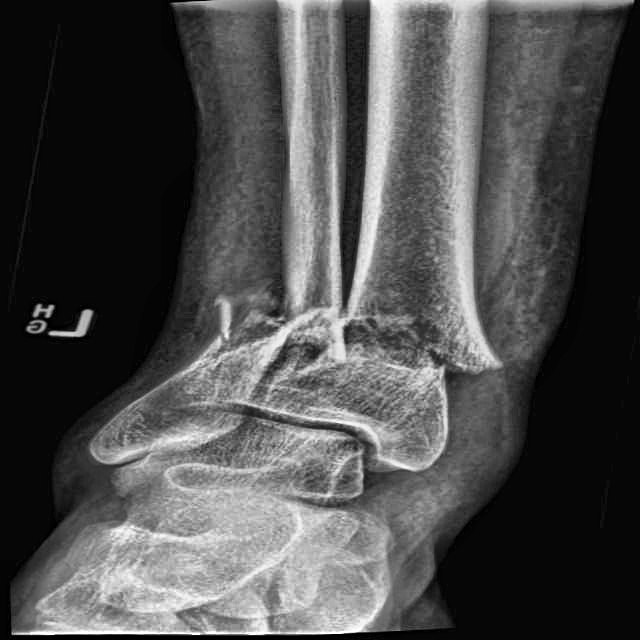Comminuted: (324, 293, 507, 396), (200, 281, 357, 364)
